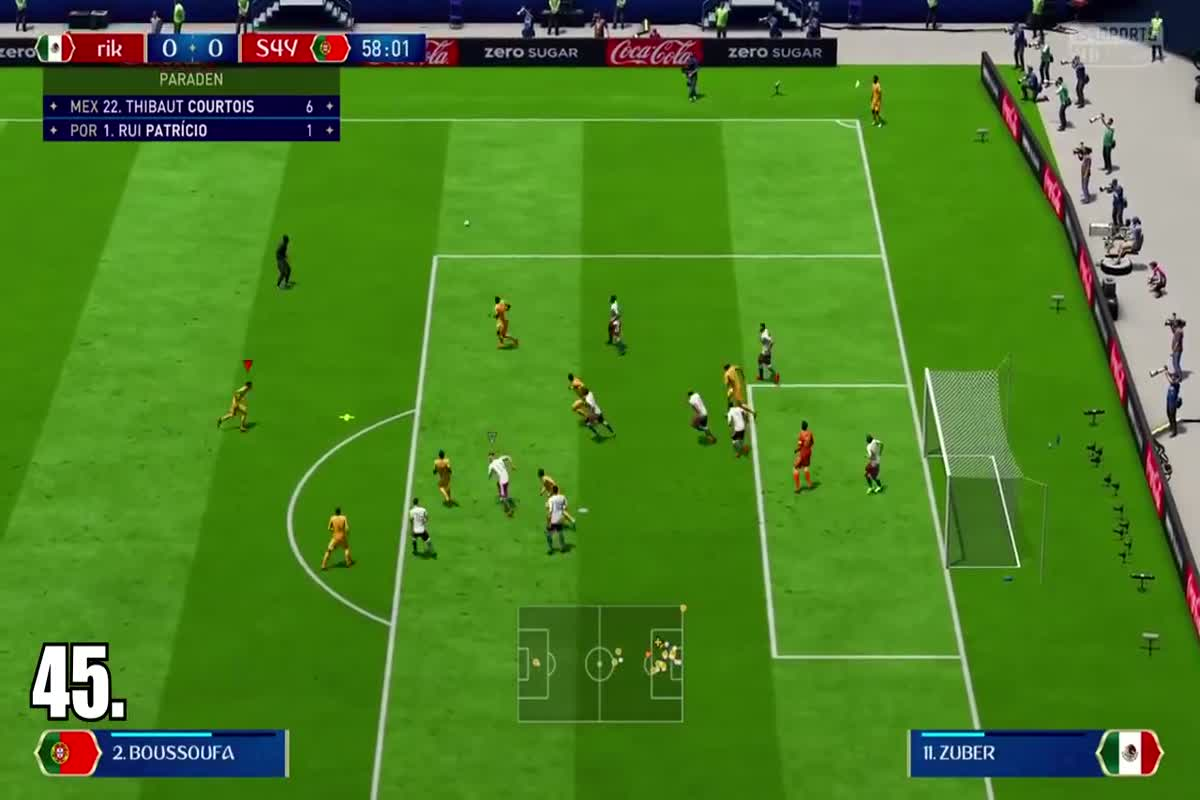ball: (452, 215, 483, 234)
